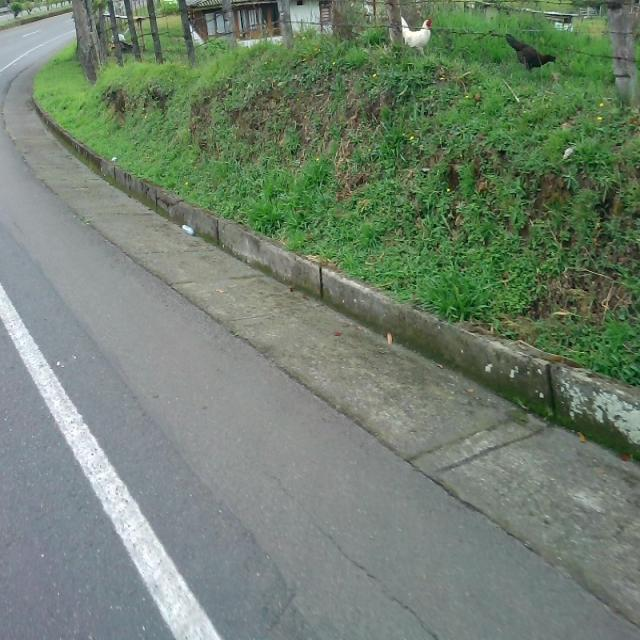DITCH: (2, 30, 638, 638), (1, 120, 639, 637)
